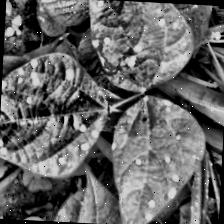Bean Rust: (0, 51, 109, 181), (106, 96, 206, 224), (73, 0, 196, 95)
